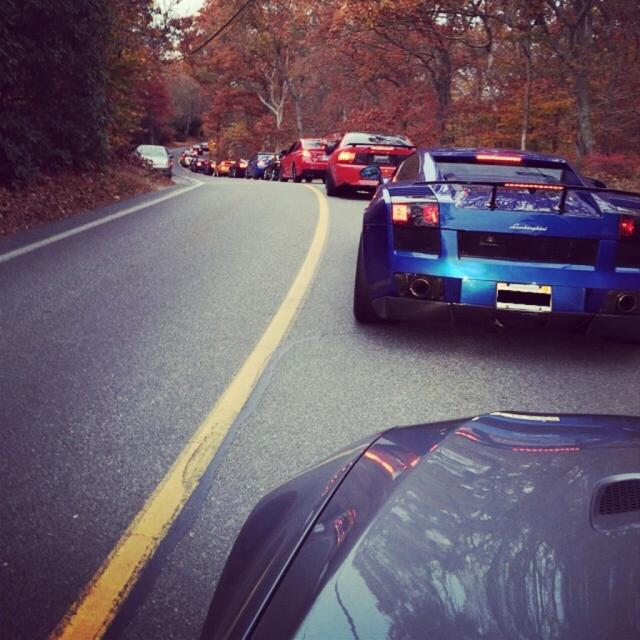car: (348, 148, 632, 350), (325, 124, 432, 198), (275, 137, 327, 178), (245, 150, 281, 171)
